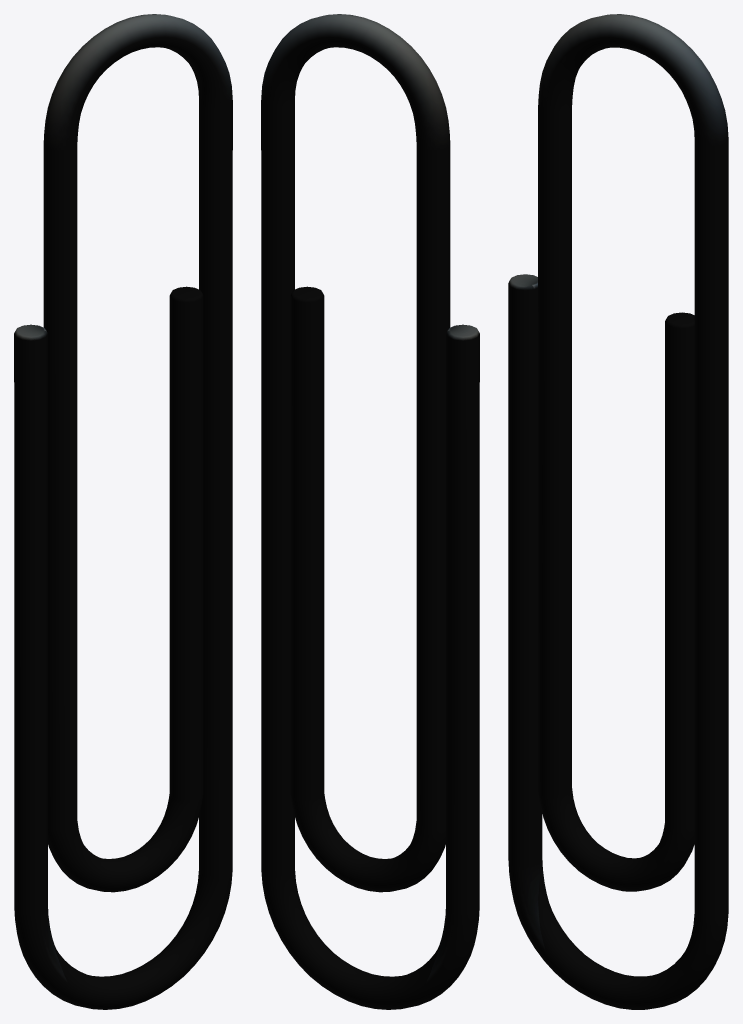
3 views of the same model, side by side, from view 1: azimuth 30°, elevation 25°; view 2: azimuth 150°, elevation 25°; view 3: azimuth 330°, elevation 25° (orthographic).
Visible parts, largest first — view 1: paper_clip.1; view 2: paper_clip.1; view 3: paper_clip.1.
Part boxes in pixels (x1,y1,x2,y2): paper_clip.1: [14, 14, 232, 1009]; paper_clip.1: [261, 14, 479, 1009]; paper_clip.1: [508, 14, 728, 1009].
Bounding box in the file's own units: 0.00943 × 0.0415 × 0.00129.
1 material, 1 textured.
